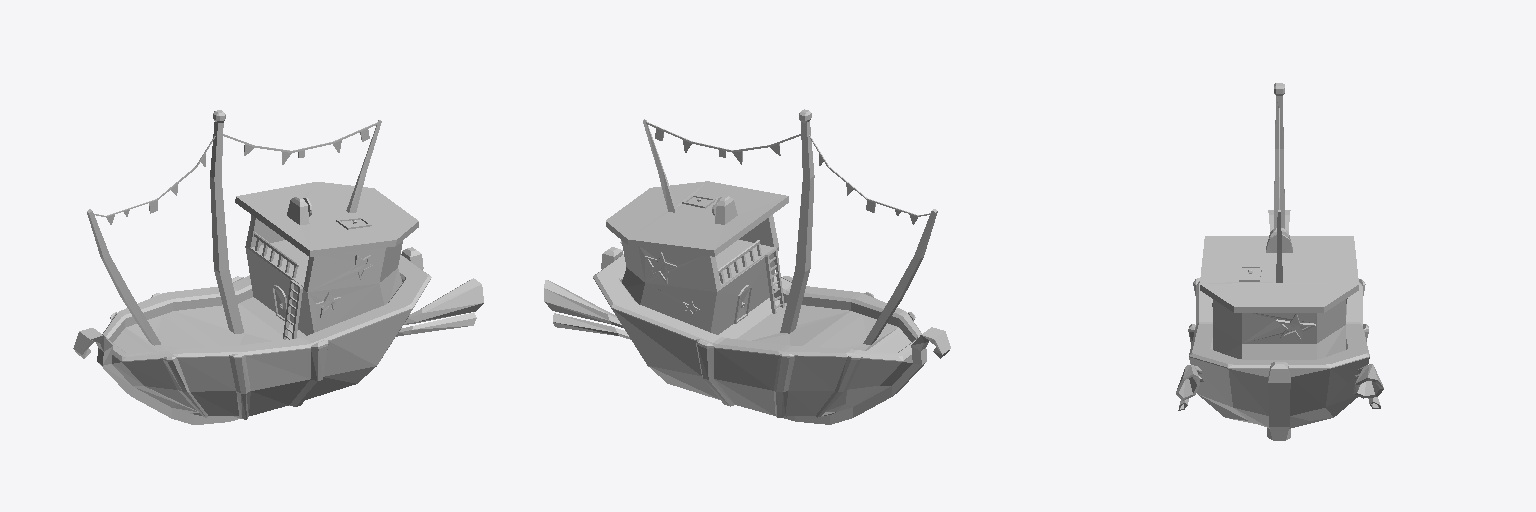
The model's file is Schiff_Shadered.obj.
3 views of the same model, side by side, from view 1: azimuth 30°, elevation 25°; view 2: azimuth 150°, elevation 25°; view 3: azimuth 270°, elevation 25° (orthographic).
Parts seen in each view (by area): view 1: Würfel_Würfel.004; view 2: Würfel_Würfel.004; view 3: Würfel_Würfel.004.
Boxes of the visible parts, x1=… form: Würfel_Würfel.004: x1=73, y1=110, x2=483, y2=424; Würfel_Würfel.004: x1=544, y1=109, x2=950, y2=424; Würfel_Würfel.004: x1=1176, y1=83, x2=1383, y2=440.
Bounding box in the file's own units: 4.55 × 3.75 × 2.31.